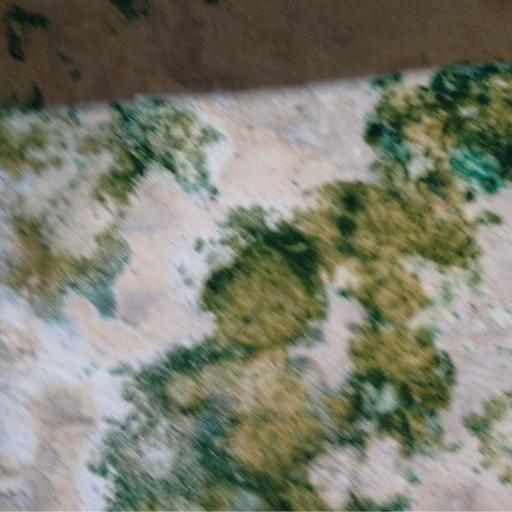algae: (6, 52, 507, 486)
